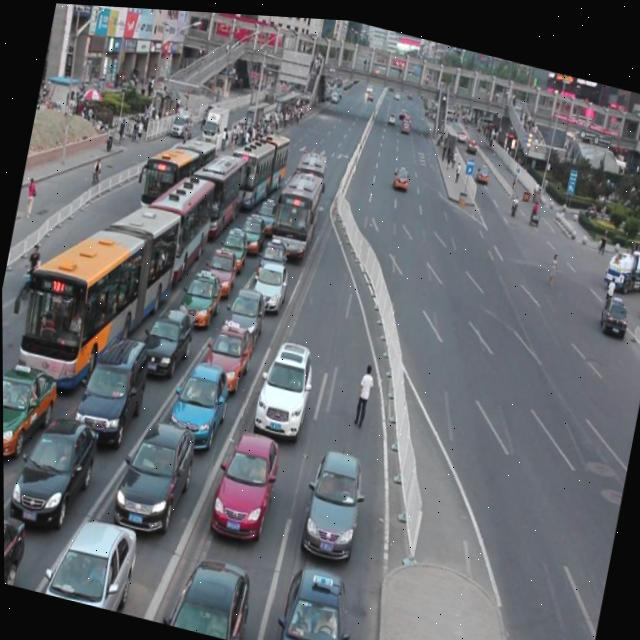bus: (600, 235, 640, 288)
car: (6, 412, 100, 536), (110, 418, 198, 543), (42, 514, 139, 613), (72, 332, 152, 452), (207, 428, 282, 543), (296, 447, 369, 561), (162, 552, 254, 640), (271, 559, 358, 640), (250, 338, 317, 442), (2, 359, 59, 469), (166, 360, 232, 454), (139, 305, 196, 384), (200, 319, 255, 395), (221, 285, 268, 353), (177, 268, 224, 331), (249, 262, 289, 312), (202, 247, 239, 297), (3, 511, 26, 586), (216, 223, 250, 271), (596, 285, 630, 331), (256, 235, 289, 280), (234, 210, 267, 254), (251, 195, 279, 236), (390, 161, 410, 187), (635, 278, 640, 311)
van: (1, 180, 183, 411), (130, 164, 219, 292), (131, 126, 219, 226), (222, 123, 292, 217), (182, 147, 248, 244), (268, 166, 323, 260), (286, 148, 330, 221)
